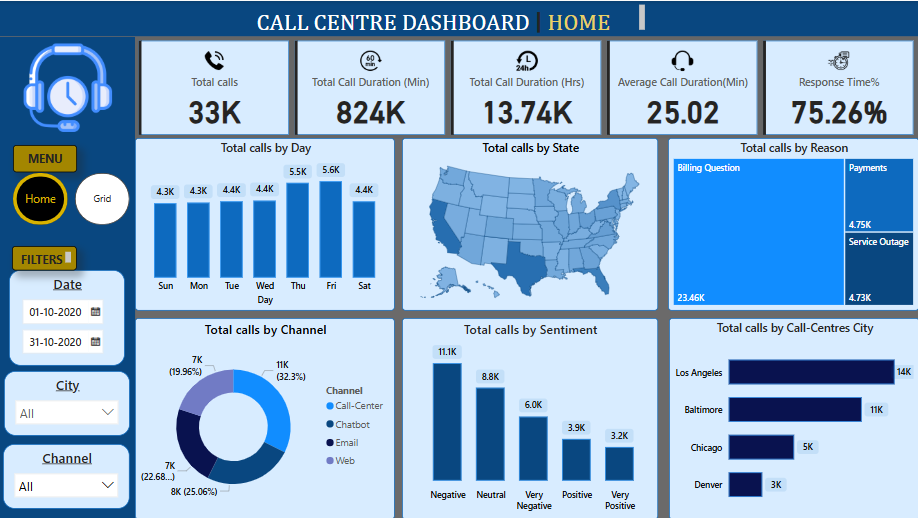

Layout of this report page (visuals, bound fields, positions):
{"tool":"powerbi","page":{"name":"Home","canvas":[1280,720],"ordinal":0},"visuals":[{"type":"shape","box":[0,49.4,190.6,670.6],"z":0},{"type":"shape","box":[0,0,1280.5,49.4],"z":1000},{"type":"cardVisual","fields":{"Data":["Call Center_Call Center.Total calls","Call Center_Call Center.minutes","Call Center_Call Center.hours","Avg(Call Center_Call Center.Call Duration In Minutes)","Call Center_Call Center.responsetime%"]},"box":[190.6,49.4,1089.9,141.2],"z":2000},{"type":"textbox","box":[314.8,0,590.1,49.4],"z":3000},{"type":"columnChart","fields":{"Category":["Date Table.Day"],"Y":["Call Center_Call Center.Total calls"]},"box":[190.6,190.6,361.4,240],"z":4000},{"type":"shapeMap","fields":{"Category":["Call Center_Call Center.State"],"Value":["Call Center_Call Center.Total calls"]},"box":[561.9,190.6,355.8,240],"z":5000},{"type":"treemap","fields":{"Group":["Call Center_Call Center.Reason"],"Values":["Call Center_Call Center.Total calls"]},"box":[931.8,190.6,348.7,240],"z":6000},{"type":"donutChart","fields":{"Category":["Call Center_Call Center.Channel"],"Y":["Call Center_Call Center.Total calls"]},"box":[190.6,440.5,361.4,279.5],"z":7000},{"type":"columnChart","fields":{"Category":["Call Center_Call Center.Sentiment"],"Y":["Call Center_Call Center.Total calls"]},"box":[562,440,356,280],"z":8000},{"type":"barChart","fields":{"Category":["Call Center_Call Center.Call-Centres City"],"Y":["Call Center_Call Center.Total calls"]},"box":[932,440,348,280],"z":9000},{"type":"slicer","title":"Date","fields":{"Values":["Date Table.Date"]},"box":[15.5,374.1,160.9,132.7],"z":10000},{"type":"slicer","title":"City","fields":{"Values":["Call Center_Call Center.City"]},"box":[8.5,513.9,175.1,90.4],"z":10001},{"type":"slicer","title":"Channel","fields":{"Values":["Call Center_Call Center.Channel"]},"box":[7.1,615.5,176.5,90.4],"z":10002},{"type":"image","box":[31.1,49.4,132.7,141.2],"z":10003},{"type":"textbox","box":[21.2,200.5,88.9,38.1],"z":10005},{"type":"textbox","box":[19.8,340.2,90.4,33.9],"z":10006},{"type":"pageNavigator","box":[21.2,238.6,163.8,72],"z":10007}]}

Visuals, with their boxes in screenshot pixels (x1, y1, x2, y2), scaled from the page's 1280x720 canvas onto the 918x518 screenshot:
shape: bbox=(0, 36, 137, 517)
shape: bbox=(0, 0, 917, 36)
cardVisual - Call Center_Call Center.Total calls x Call Center_Call Center.minutes: bbox=(137, 36, 917, 137)
textbox: bbox=(226, 0, 649, 36)
columnChart - Date Table.Day x Call Center_Call Center.Total calls: bbox=(137, 137, 396, 310)
shapeMap - Call Center_Call Center.State x Call Center_Call Center.Total calls: bbox=(403, 137, 658, 310)
treemap - Call Center_Call Center.Reason x Call Center_Call Center.Total calls: bbox=(668, 137, 917, 310)
donutChart - Call Center_Call Center.Channel x Call Center_Call Center.Total calls: bbox=(137, 317, 396, 517)
columnChart - Call Center_Call Center.Sentiment x Call Center_Call Center.Total calls: bbox=(403, 317, 658, 517)
barChart - Call Center_Call Center.Call-Centres City x Call Center_Call Center.Total calls: bbox=(668, 317, 917, 517)
"Date" slicer: bbox=(11, 269, 127, 365)
"City" slicer: bbox=(6, 370, 132, 435)
"Channel" slicer: bbox=(5, 443, 132, 508)
image: bbox=(22, 36, 117, 137)
textbox: bbox=(15, 144, 79, 172)
textbox: bbox=(14, 245, 79, 269)
pageNavigator: bbox=(15, 172, 133, 223)
